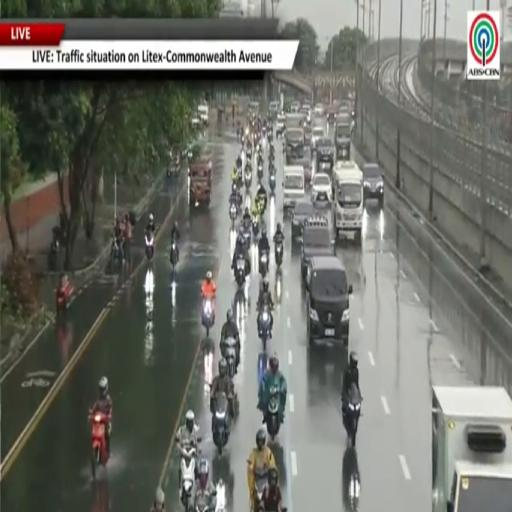car: (306, 256, 352, 346), (301, 216, 335, 279), (291, 201, 314, 239), (363, 164, 383, 207), (312, 172, 332, 204), (316, 137, 334, 170), (311, 126, 325, 150), (197, 104, 209, 125), (276, 114, 285, 138), (268, 101, 279, 118), (304, 124, 312, 146), (314, 104, 324, 117)
motorcycle: (90, 412, 109, 479), (343, 384, 361, 447), (180, 444, 196, 510), (213, 392, 230, 454), (266, 387, 280, 440), (253, 468, 267, 512), (258, 304, 271, 350), (56, 281, 73, 314), (202, 298, 214, 338), (225, 336, 236, 378), (348, 473, 360, 510), (215, 479, 227, 511), (111, 236, 122, 268), (258, 352, 267, 388), (236, 259, 245, 289), (259, 251, 269, 277), (145, 233, 154, 261), (170, 240, 178, 271), (243, 222, 251, 249), (195, 501, 214, 511), (275, 244, 283, 267), (230, 203, 237, 229), (252, 217, 259, 239), (269, 173, 275, 195), (257, 164, 263, 182), (245, 171, 251, 189), (268, 153, 275, 167), (267, 129, 273, 143), (246, 148, 252, 159)
truck: (432, 387, 511, 511), (333, 163, 363, 241), (189, 152, 212, 206), (335, 117, 351, 159)
